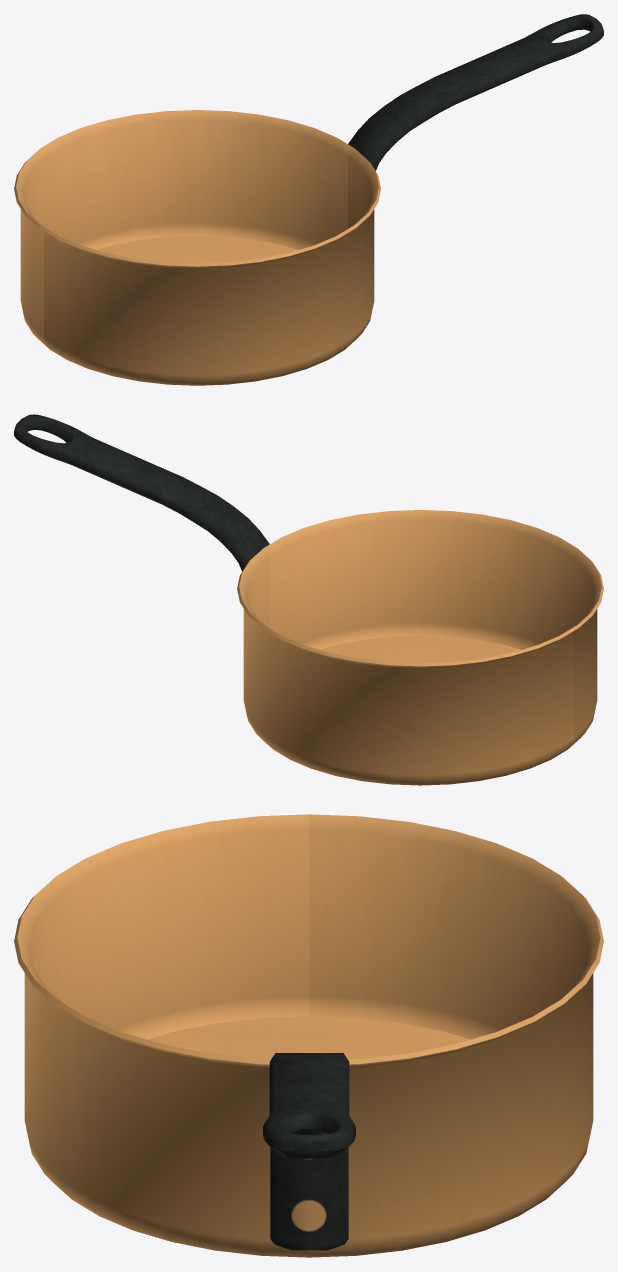
File: panela.glb
3 renders of one model, top to bottom at view 1: azimuth 30°, elevation 25°; view 2: azimuth 150°, elevation 25°; view 3: azimuth 270°, elevation 25°, orthographic. The views are drawn at different scales.
Visible parts, largest first — view 1: Pan3; view 2: Pan3; view 3: Pan3.
Boxes of the visible parts, x1,y1,x2,y2 form: Pan3: [14, 14, 603, 385]; Pan3: [14, 414, 603, 785]; Pan3: [14, 814, 603, 1257].
Size of the model in its own units: 8.74 by 2.95 by 4.97.
1 material, 1 textured.
